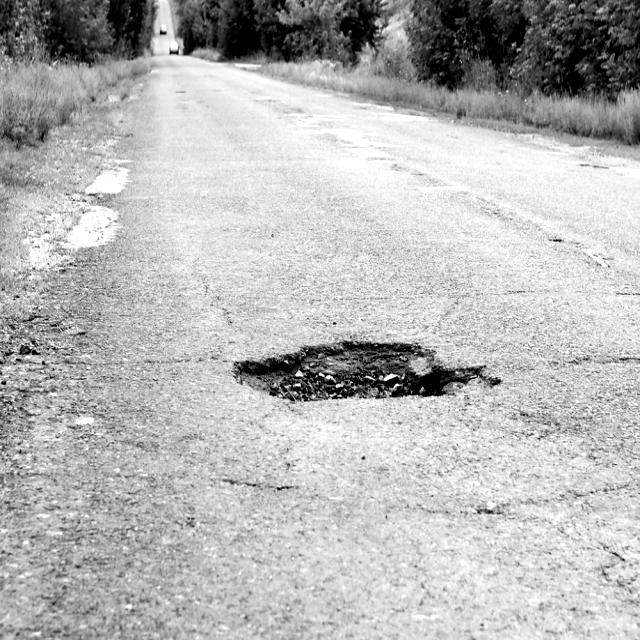pathole: (223, 315, 514, 444)
